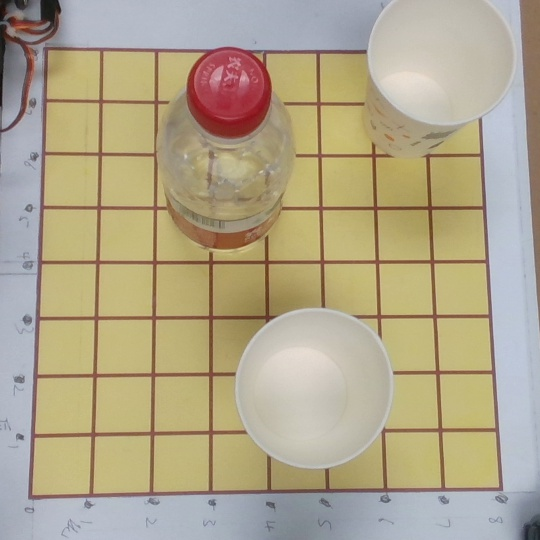bottle: (153, 46, 298, 284)
cup: (221, 306, 396, 476), (344, 1, 516, 170)
